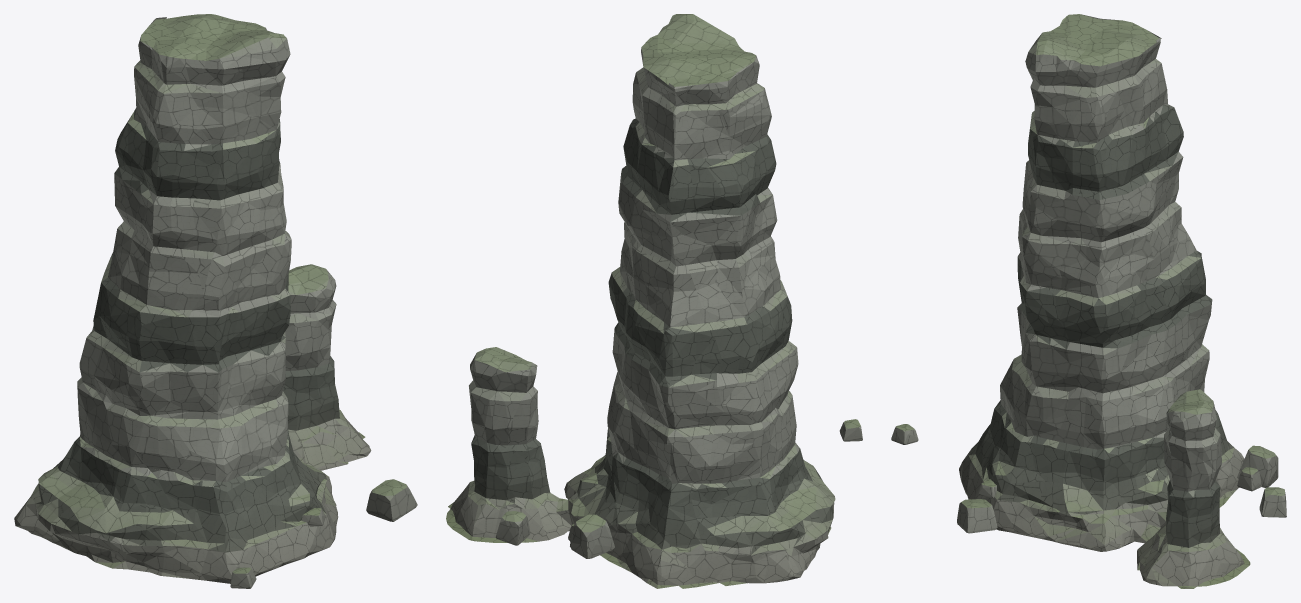
File: sea_stack.glb
3 views of the same model, side by side, from view 1: azimuth 30°, elevation 25°; view 2: azimuth 150°, elevation 25°; view 3: azimuth 270°, elevation 25° (orthographic). The views are drawn at different scales.
Parts seen in each view (by area): view 1: sea_stack.001; view 2: sea_stack.001; view 3: sea_stack.001.
Part boxes in pixels (bbox=[...]): sea_stack.001: bbox=[14, 14, 417, 588]; sea_stack.001: bbox=[446, 14, 862, 588]; sea_stack.001: bbox=[891, 14, 1286, 588].
Size of the model in its own units: 14.72 by 19.65 by 15.08.
2 materials, 2 textured.
